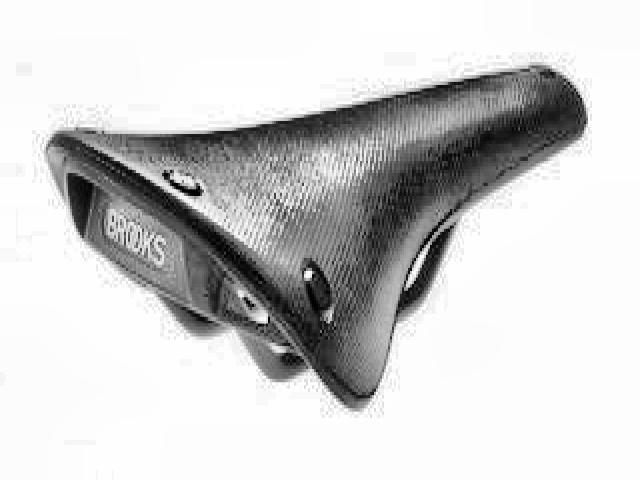saddle: (40, 61, 590, 420)
